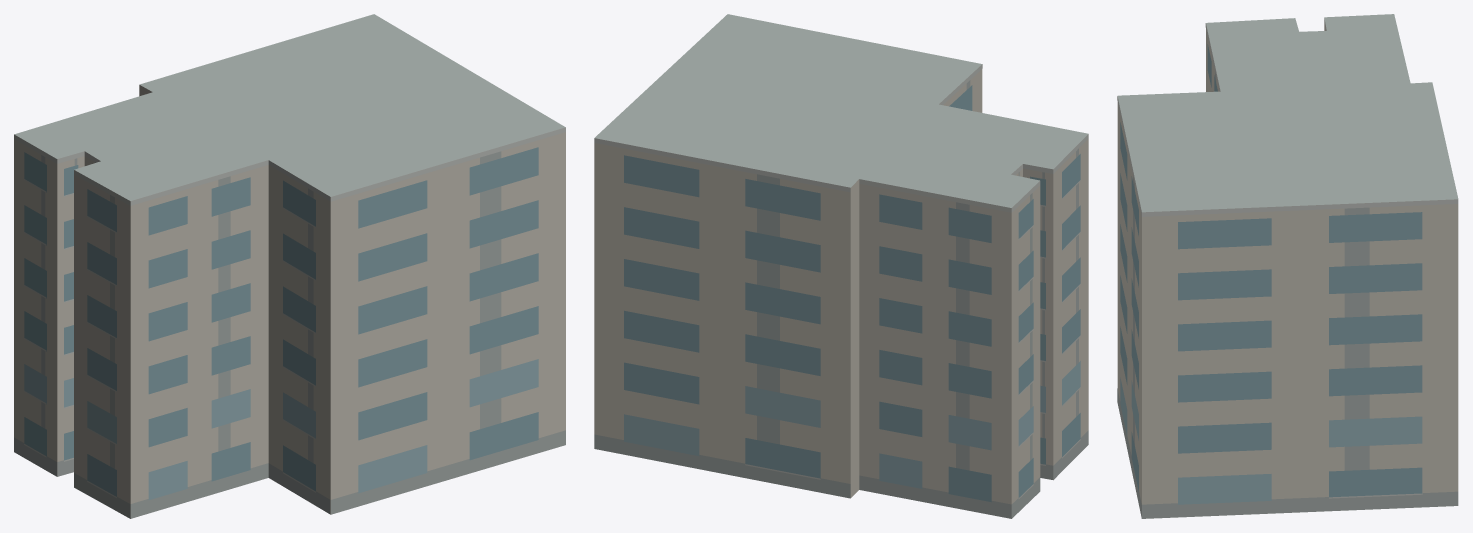
The model's file is survey-upis-32633397.glb.
The picture shows the model from 3 angles, left to right: view 1: azimuth 30°, elevation 25°; view 2: azimuth 150°, elevation 25°; view 3: azimuth 270°, elevation 25°; orthographic projection. The views are drawn at different scales.
Visible parts, largest first — view 1: survey-upis-32633397.tmp; view 2: survey-upis-32633397.tmp; view 3: survey-upis-32633397.tmp.
Boxes of the visible parts, <box> form: survey-upis-32633397.tmp: <box>14,14,565,518</box>; survey-upis-32633397.tmp: <box>594,14,1088,518</box>; survey-upis-32633397.tmp: <box>1117,14,1458,518</box>.
Bounding box in the file's own units: 22.34 × 16.1 × 16.24.
